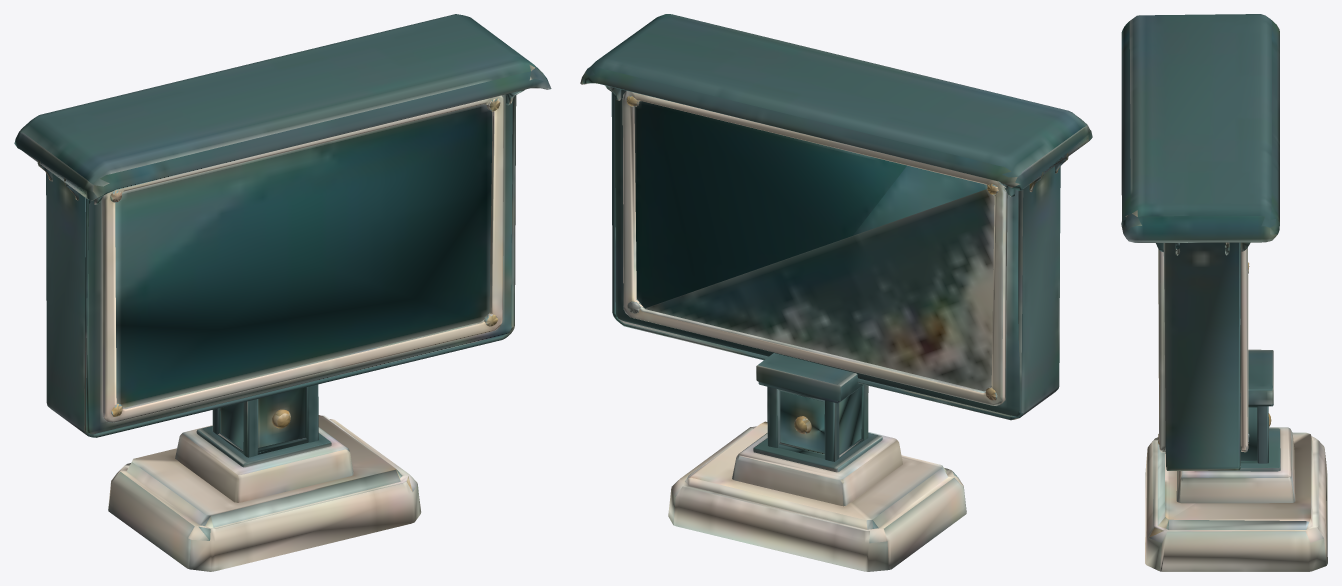
The model's file is bulletin.glb.
3 renders of one model, left to right at view 1: azimuth 30°, elevation 25°; view 2: azimuth 150°, elevation 25°; view 3: azimuth 270°, elevation 25°, orthographic. The views are drawn at different scales.
Visible parts, largest first — view 1: Mesh_0; view 2: Mesh_0; view 3: Mesh_0.
Boxes of the visible parts, bbox=[...] form: Mesh_0: bbox=[14, 14, 551, 571]; Mesh_0: bbox=[580, 14, 1092, 571]; Mesh_0: bbox=[1121, 14, 1327, 571].
Bounding box in the file's own units: 2.2 × 2 × 0.9173.
1 material, 1 textured.
